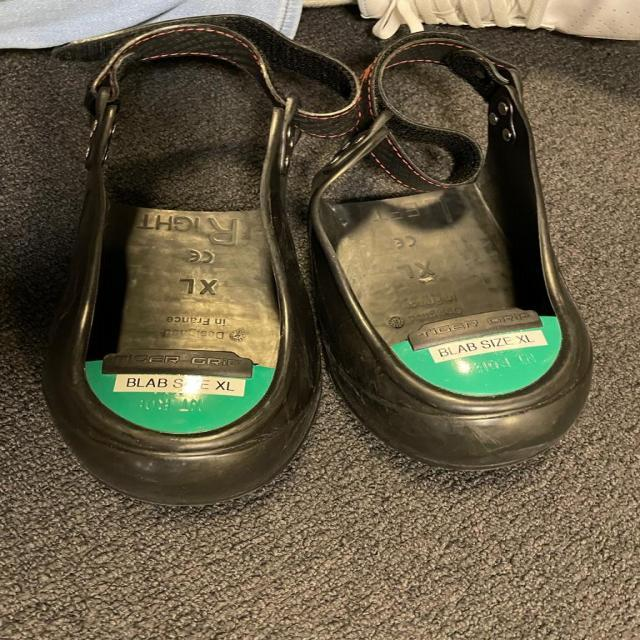shoes: (316, 26, 598, 472), (66, 31, 315, 498)
